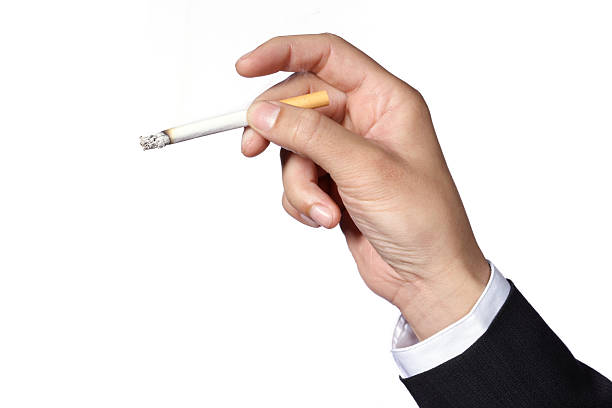cigarette: (138, 91, 332, 154)
